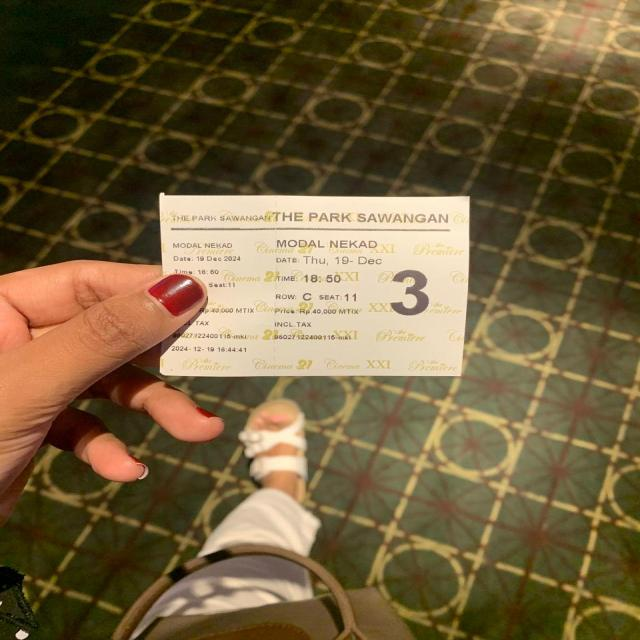date: (170, 252, 254, 263)
store: (269, 210, 457, 226)
total: (271, 307, 363, 319)
